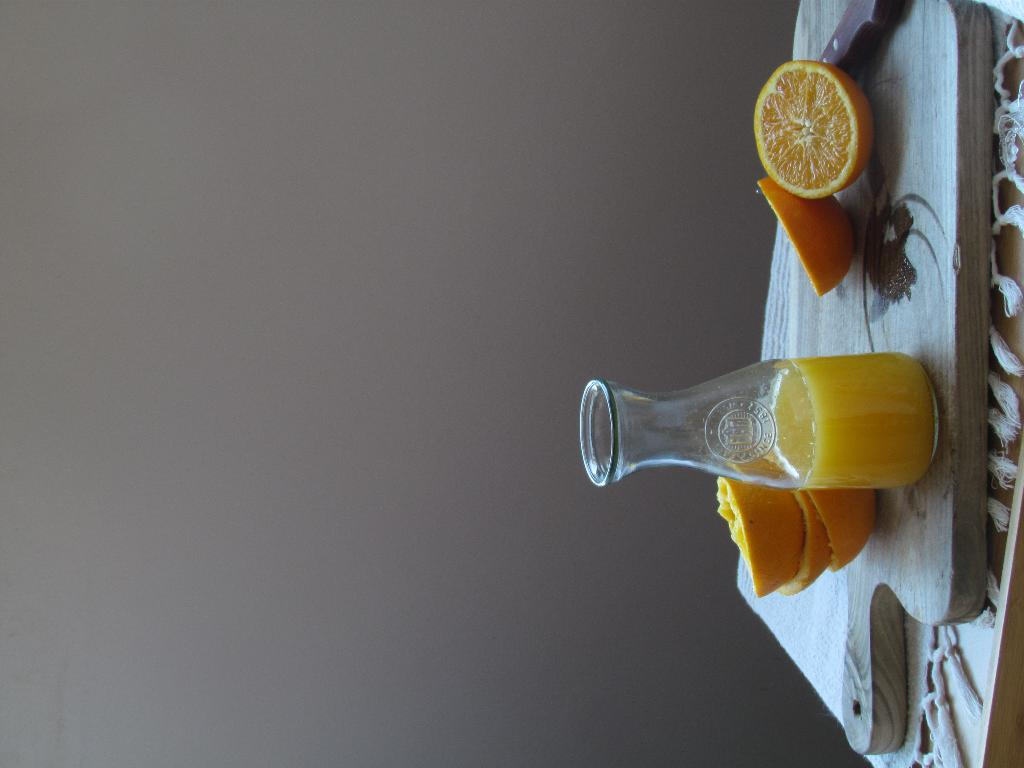Ripe: (758, 54, 881, 215), (757, 175, 861, 291)
